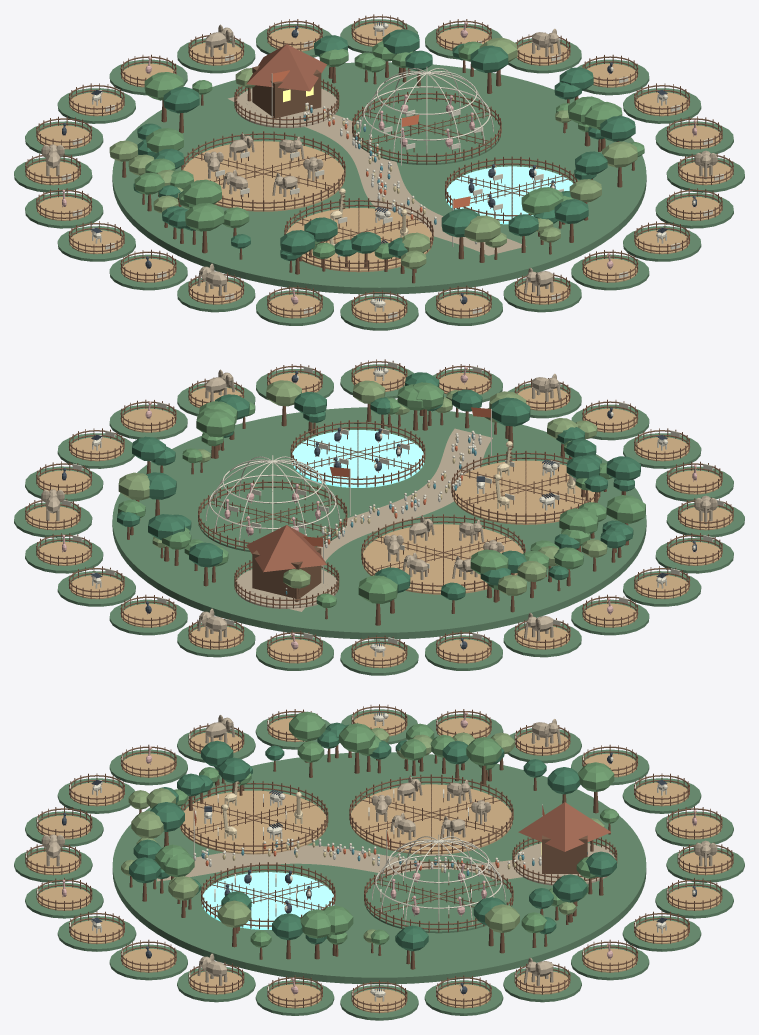
Rendered from zoo-finished.glb.
3 views of the same model, one above another, from view 1: azimuth 30°, elevation 25°; view 2: azimuth 150°, elevation 25°; view 3: azimuth 270°, elevation 25° (orthographic).
Parts seen in each view (by area): view 1: world detail batch, pen_38, pen_44, pen_42, pen_46, pen_40, pen_36, pen_41, pen_45, pen_37, pen_25, pen_33 (+17 smaller); view 2: world detail batch, pen_30, pen_36, pen_32, pen_34, pen_28, pen_38, pen_48, pen_33, pen_37, pen_29, pen_40 (+17 smaller); view 3: world detail batch, pen_26, pen_46, pen_48, pen_28, pen_30, pen_40, pen_44, pen_29, pen_25, pen_45, pen_33 (+17 smaller).
Boxes of the visible parts, <box> form: world detail batch: <box>109,29,646,294</box>; pen_38: <box>109,249,187,290</box>; pen_44: <box>571,249,649,290</box>; pen_42: <box>425,285,502,325</box>; pen_46: <box>655,188,733,228</box>; pen_40: <box>256,285,333,325</box>; pen_36: <box>25,188,103,228</box>; pen_41: <box>340,290,418,330</box>; pen_45: <box>623,221,701,261</box>; pen_37: <box>57,221,135,261</box>; pen_25: <box>623,83,701,123</box>; pen_33: <box>57,83,135,123</box>; world detail batch: <box>112,372,646,639</box>; pen_30: <box>109,594,187,635</box>; pen_36: <box>571,594,649,635</box>; pen_32: <box>256,630,333,670</box>; pen_34: <box>425,630,502,670</box>; pen_28: <box>25,533,103,573</box>; pen_38: <box>655,533,733,573</box>; pen_48: <box>109,399,187,439</box>; pen_33: <box>340,635,418,675</box>; pen_37: <box>623,566,701,606</box>; pen_29: <box>57,566,135,606</box>; pen_40: <box>655,461,733,501</box>; world detail batch: <box>112,711,646,984</box>; pen_26: <box>424,975,503,1015</box>; pen_46: <box>109,939,187,980</box>; pen_48: <box>255,975,334,1015</box>; pen_28: <box>571,939,649,980</box>; pen_30: <box>655,877,733,918</box>; pen_40: <box>109,744,187,785</box>; pen_44: <box>25,877,103,918</box>; pen_29: <box>622,911,701,951</box>; pen_25: <box>340,980,418,1020</box>; pen_45: <box>57,911,136,951</box>; pen_33: <box>622,773,701,813</box>.
Bounding box in the file's own units: 98.6 × 10.37 × 98.6.
